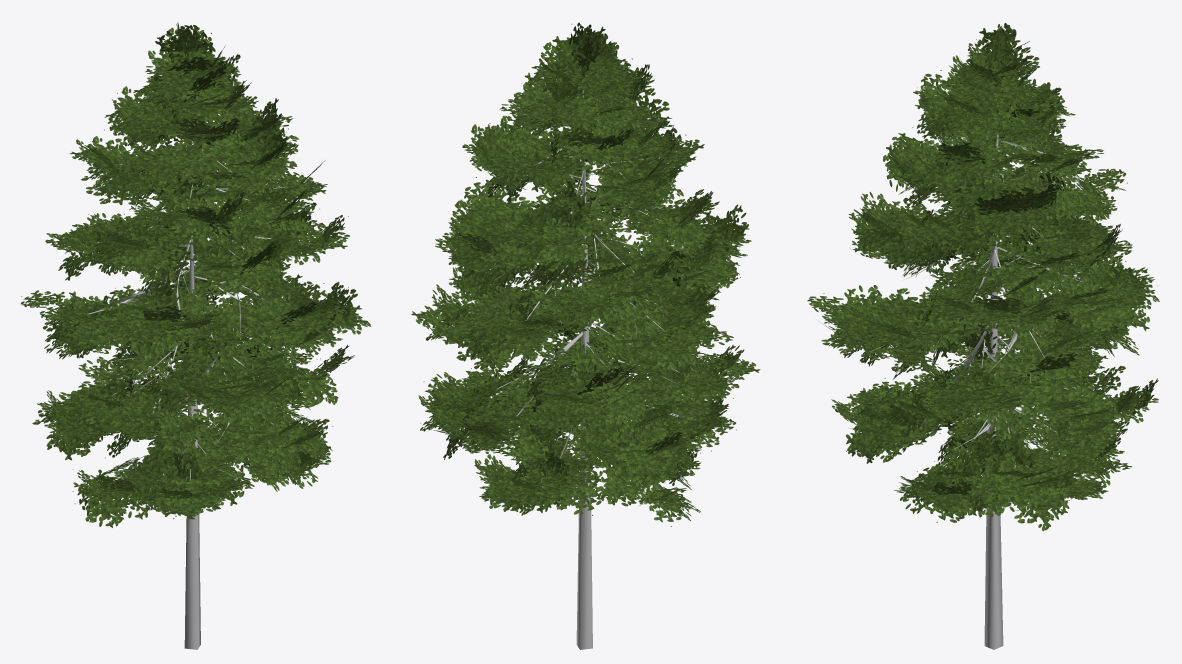
Rendered from pine_0.gltf.
3 views of the same model, side by side, from view 1: azimuth 30°, elevation 25°; view 2: azimuth 150°, elevation 25°; view 3: azimuth 270°, elevation 25° (orthographic).
Visible parts, largest first — view 1: LOD0; view 2: LOD0; view 3: LOD0.
Boxes of the visible parts, x1=… form: LOD0: x1=20, y1=23, x2=371, y2=649; LOD0: x1=411, y1=22, x2=760, y2=649; LOD0: x1=807, y1=23, x2=1159, y2=649.
Size of what is drawn, in the model's own units: 8.97 by 17.21 by 9.23.
